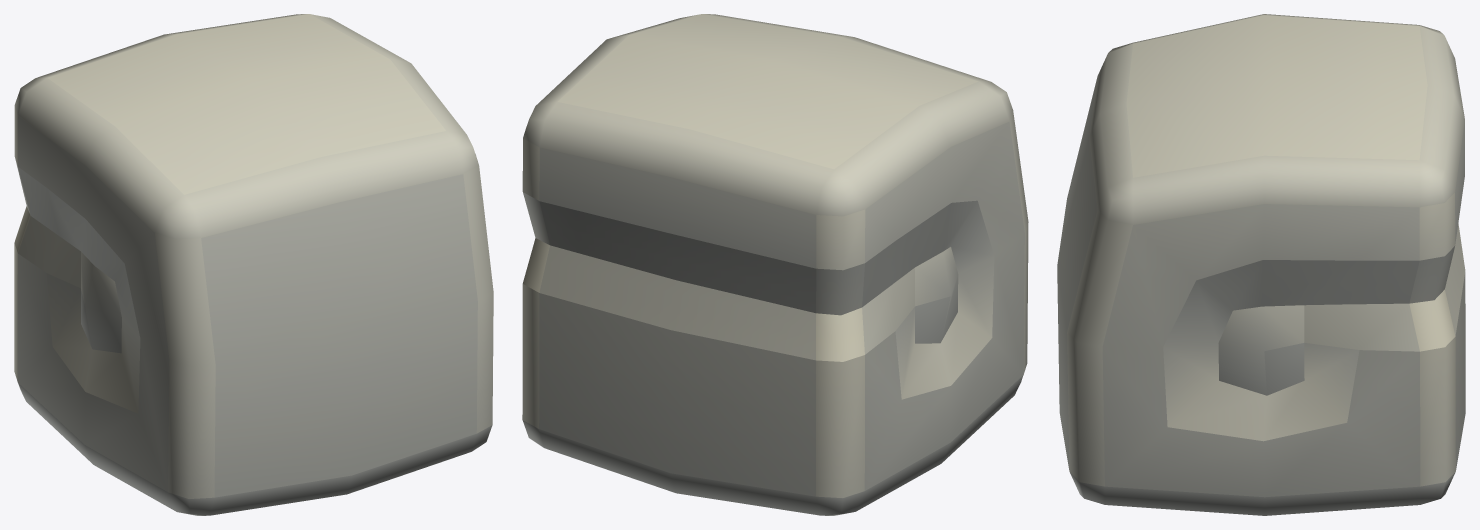
File: stone_ornament2_LOD_setup.fbx
3 views of the same model, side by side, from view 1: azimuth 30°, elevation 25°; view 2: azimuth 150°, elevation 25°; view 3: azimuth 270°, elevation 25° (orthographic). The views are drawn at different scales.
Visible parts, largest first — view 1: stone_ornament2_LOD0; view 2: stone_ornament2_LOD0; view 3: stone_ornament2_LOD0.
Part boxes in pixels (x1,y1,x2,y2): stone_ornament2_LOD0: (14, 14, 493, 515); stone_ornament2_LOD0: (522, 14, 1028, 515); stone_ornament2_LOD0: (1057, 14, 1465, 515).
Size of what is drawn, in the model's own units: 57.07 by 58.66 by 57.56.
